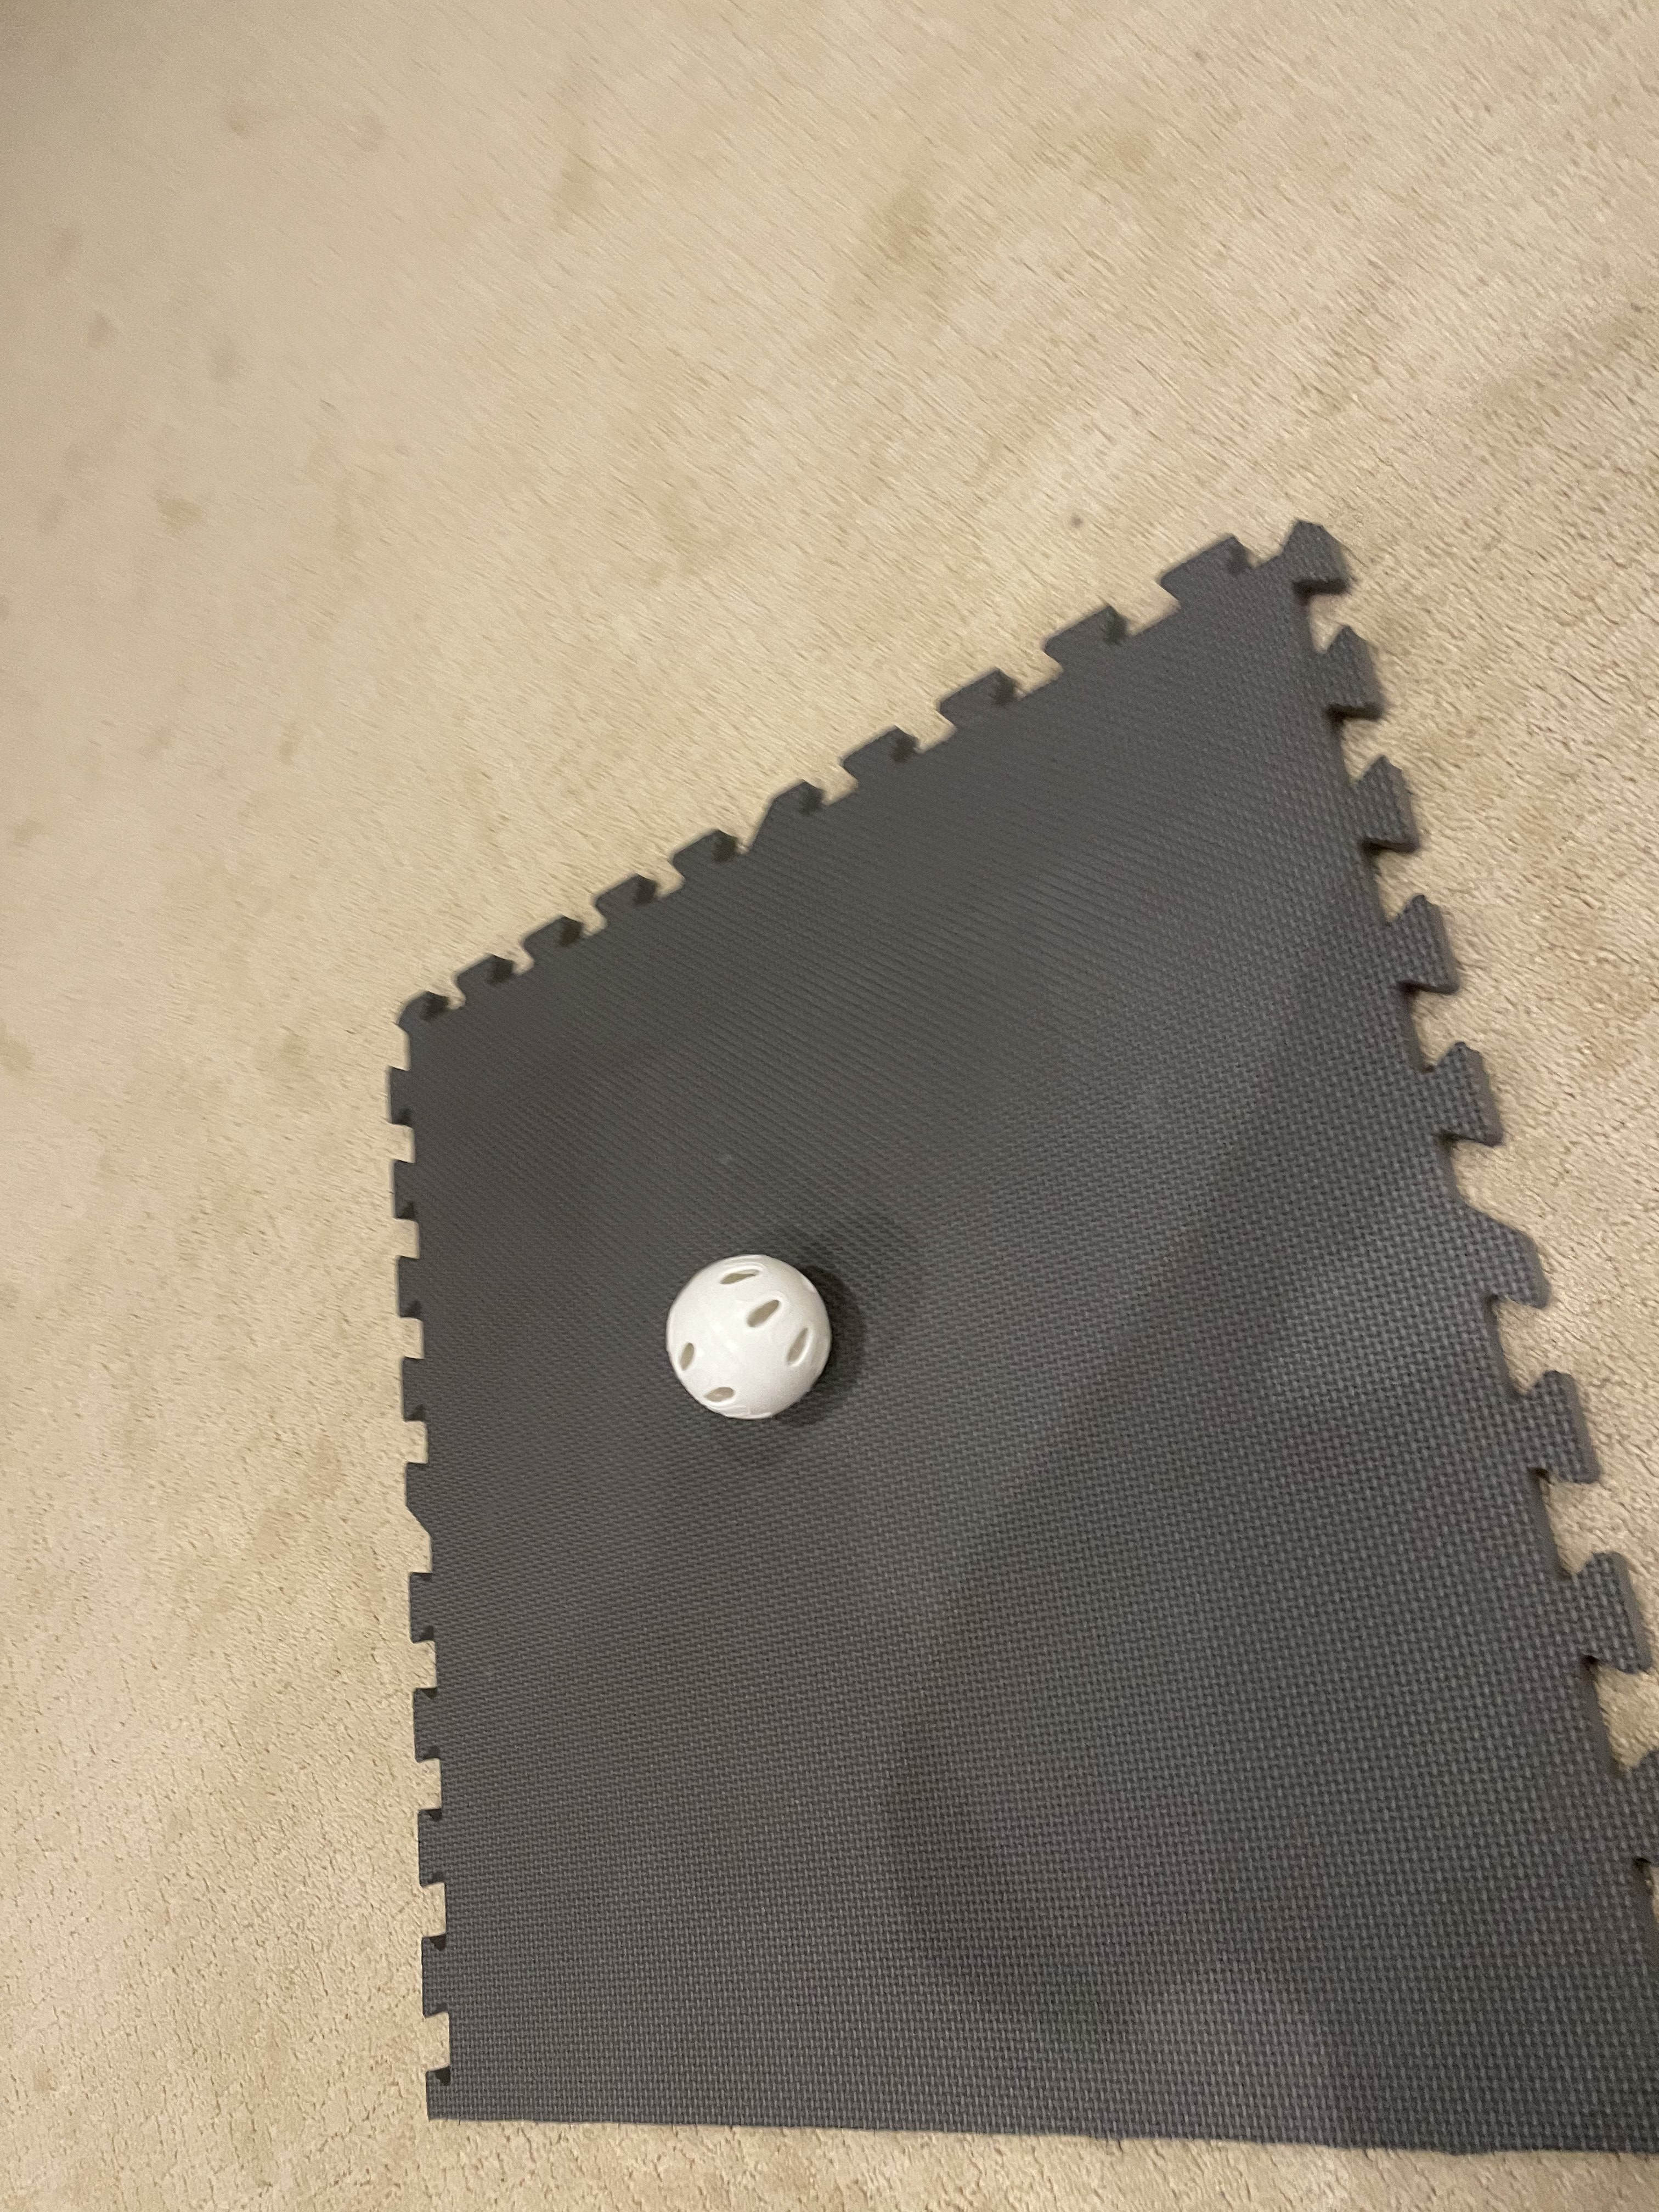ball: (634, 1231, 850, 1447)
